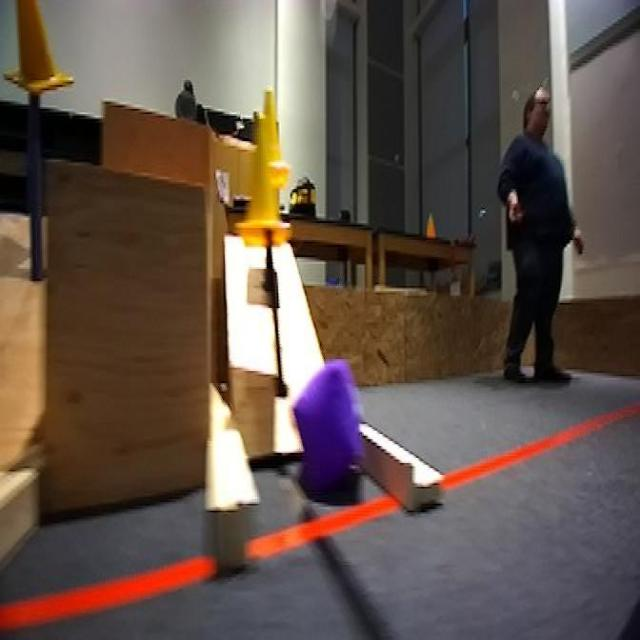frc_cone: (234, 119, 292, 247), (4, 0, 75, 97), (253, 88, 294, 185)
frc_cube: (292, 359, 368, 495)
